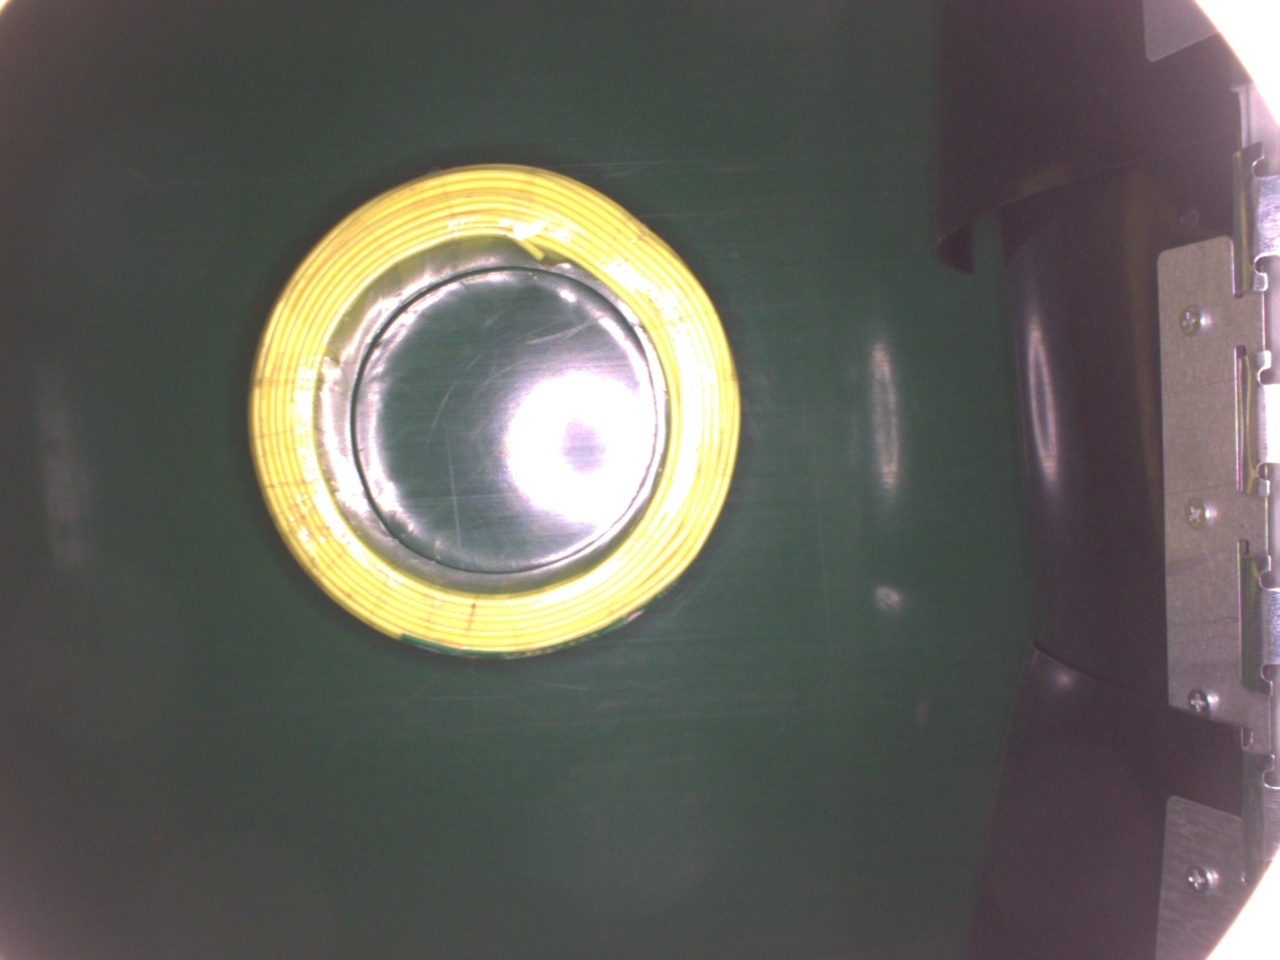yellow: (246, 160, 744, 659)
